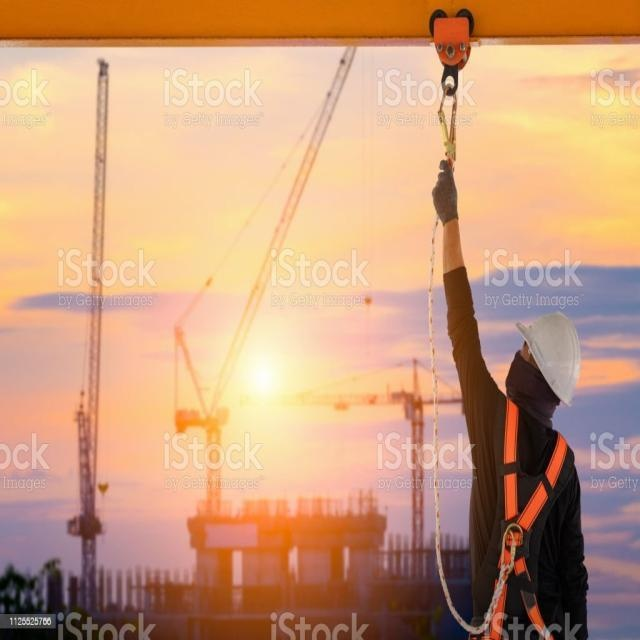Arnes_seguridad: (460, 394, 578, 640)
